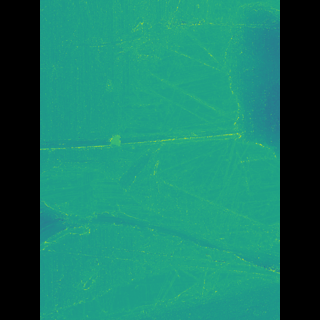Loch: (122, 10, 250, 282), (69, 160, 187, 320)
